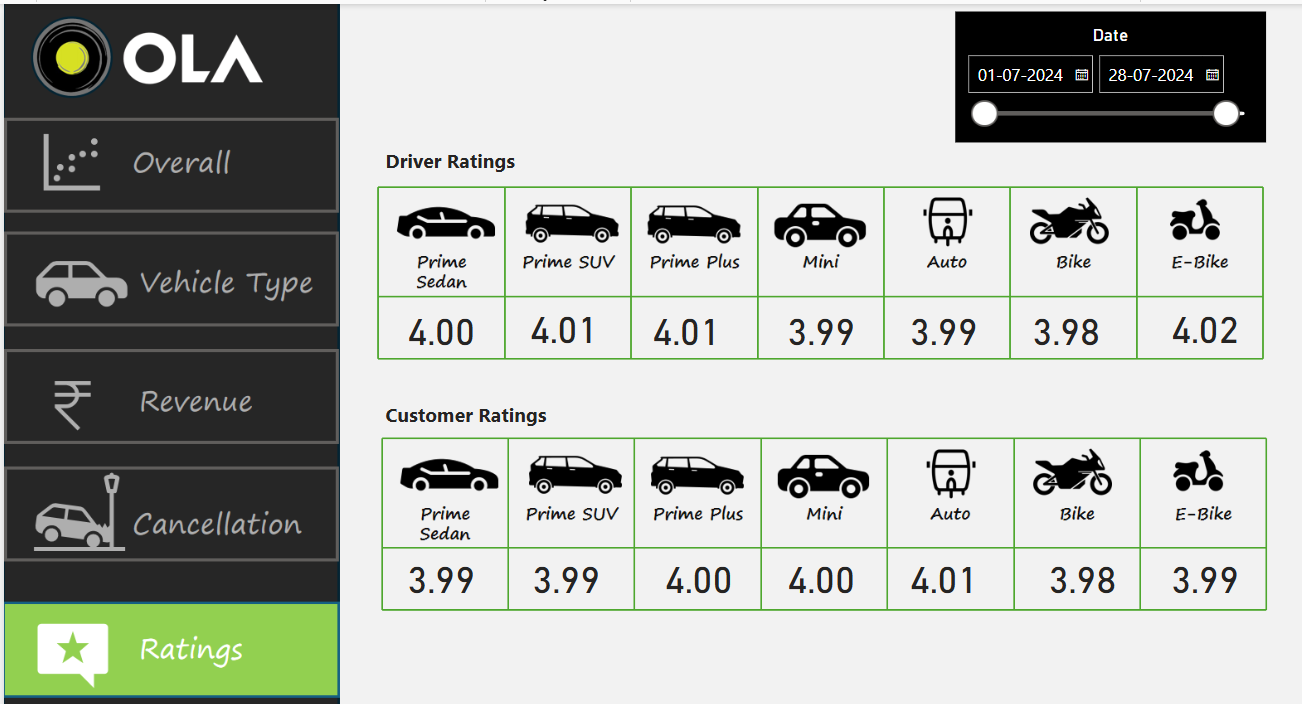

This screenshot's page, from the dashboard's own definition file:
{"tool":"powerbi","page":{"name":"Ratings","canvas":[1280,720],"ordinal":4},"visuals":[{"type":"actionButton","box":[0,219.6,323.3,91.7],"z":0},{"type":"actionButton","box":[0,333,323.3,91.7],"z":1000},{"type":"actionButton","box":[0,446.4,323.3,91.7],"z":2000},{"type":"actionButton","box":[0,109.8,323.3,91.7],"z":3000},{"type":"card","fields":{"Values":["Avg(July.Driver_Ratings)"]},"box":[363.3,285,118.3,56.7],"z":4000},{"type":"card","fields":{"Values":["Avg(July.Driver_Ratings)"]},"box":[481.7,283.3,118.3,56.7],"z":5000},{"type":"card","fields":{"Values":["Avg(July.Driver_Ratings)"]},"box":[600,285,118.3,56.7],"z":6000},{"type":"card","fields":{"Values":["Avg(July.Driver_Ratings)"]},"box":[730,285,118.3,56.7],"z":7000},{"type":"card","fields":{"Values":["Avg(July.Driver_Ratings)"]},"box":[848.3,285,118.3,56.7],"z":8000},{"type":"card","fields":{"Values":["Avg(July.Driver_Ratings)"]},"box":[966.7,285,118.3,56.7],"z":9000},{"type":"card","fields":{"Values":["Avg(July.Driver_Ratings)"]},"box":[1100,283.3,118.3,56.7],"z":10000},{"type":"card","fields":{"Values":["Avg(July.Customer_Rating)"]},"box":[363.3,525,118.3,56.7],"z":11000},{"type":"textbox","box":[363.3,133.3,190,38.3],"z":12000},{"type":"textbox","box":[363.3,378.3,178.3,46.7],"z":13000},{"type":"card","fields":{"Values":["Avg(July.Customer_Rating)"]},"box":[483.3,525,118.3,56.7],"z":14000},{"type":"card","fields":{"Values":["Avg(July.Customer_Rating)"]},"box":[611.7,525,118.3,56.7],"z":15000},{"type":"card","fields":{"Values":["Avg(July.Customer_Rating)"]},"box":[730,525,118.3,56.7],"z":16000},{"type":"card","fields":{"Values":["Avg(July.Customer_Rating)"]},"box":[848.3,525,118.3,56.7],"z":17000},{"type":"card","fields":{"Values":["Avg(July.Customer_Rating)"]},"box":[981.7,525,118.3,56.7],"z":18000},{"type":"card","fields":{"Values":["Avg(July.Customer_Rating)"]},"box":[1100,525,118.3,56.7],"z":19000},{"type":"slicer","title":"Date","fields":{"Values":["July.Date"]},"box":[918.3,6.7,300,126.7],"z":20000}]}

Visuals, with their boxes on the page's 1280x720 design canvas (x1, y1, x2, y2). These are canvas units, not pixel positions in the 1302x704 screenshot, which may show the page scaled, cropped or inside an application window:
actionButton: {"left": 0, "top": 220, "right": 323, "bottom": 311}
actionButton: {"left": 0, "top": 333, "right": 323, "bottom": 425}
actionButton: {"left": 0, "top": 446, "right": 323, "bottom": 538}
actionButton: {"left": 0, "top": 110, "right": 323, "bottom": 202}
card - Avg(July.Driver_Ratings): {"left": 363, "top": 285, "right": 482, "bottom": 342}
card - Avg(July.Driver_Ratings): {"left": 482, "top": 283, "right": 600, "bottom": 340}
card - Avg(July.Driver_Ratings): {"left": 600, "top": 285, "right": 718, "bottom": 342}
card - Avg(July.Driver_Ratings): {"left": 730, "top": 285, "right": 848, "bottom": 342}
card - Avg(July.Driver_Ratings): {"left": 848, "top": 285, "right": 967, "bottom": 342}
card - Avg(July.Driver_Ratings): {"left": 967, "top": 285, "right": 1085, "bottom": 342}
card - Avg(July.Driver_Ratings): {"left": 1100, "top": 283, "right": 1218, "bottom": 340}
card - Avg(July.Customer_Rating): {"left": 363, "top": 525, "right": 482, "bottom": 582}
textbox: {"left": 363, "top": 133, "right": 553, "bottom": 172}
textbox: {"left": 363, "top": 378, "right": 542, "bottom": 425}
card - Avg(July.Customer_Rating): {"left": 483, "top": 525, "right": 602, "bottom": 582}
card - Avg(July.Customer_Rating): {"left": 612, "top": 525, "right": 730, "bottom": 582}
card - Avg(July.Customer_Rating): {"left": 730, "top": 525, "right": 848, "bottom": 582}
card - Avg(July.Customer_Rating): {"left": 848, "top": 525, "right": 967, "bottom": 582}
card - Avg(July.Customer_Rating): {"left": 982, "top": 525, "right": 1100, "bottom": 582}
card - Avg(July.Customer_Rating): {"left": 1100, "top": 525, "right": 1218, "bottom": 582}
"Date" slicer: {"left": 918, "top": 7, "right": 1218, "bottom": 133}
